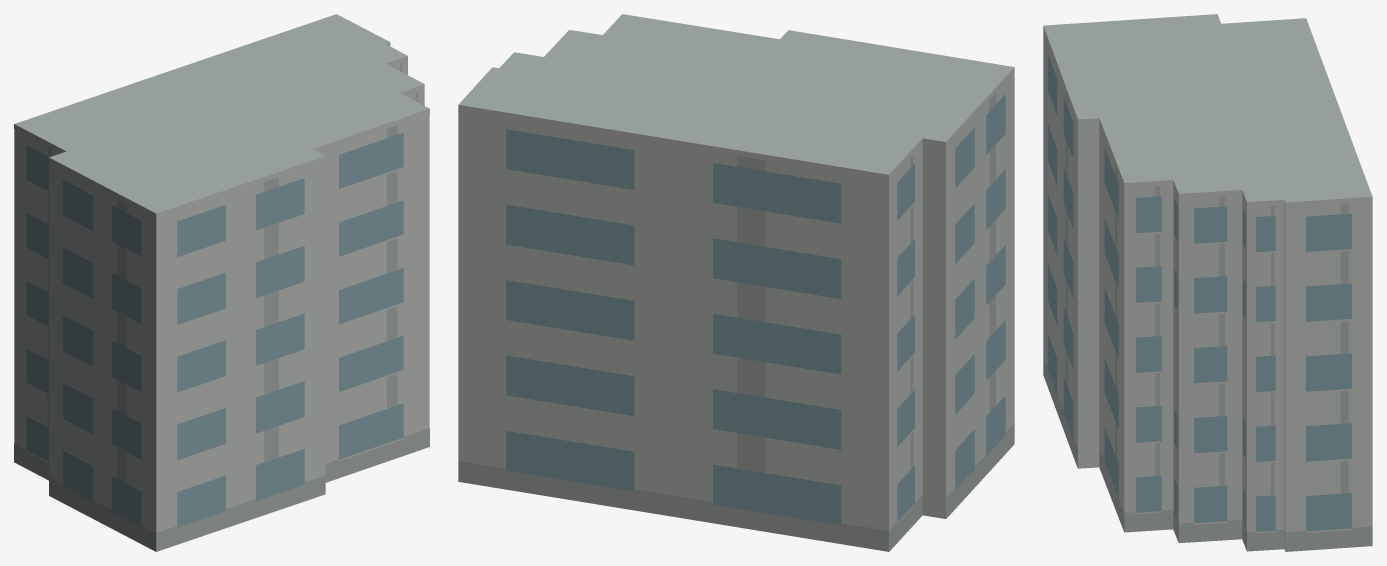
Rendered from survey-upis-32701538.glb.
The picture shows the model from 3 angles, left to right: view 1: azimuth 30°, elevation 25°; view 2: azimuth 150°, elevation 25°; view 3: azimuth 270°, elevation 25°; orthographic projection. The views are drawn at different scales.
Parts seen in each view (by area): view 1: survey-upis-32701538.tmp; view 2: survey-upis-32701538.tmp; view 3: survey-upis-32701538.tmp.
Part boxes in pixels (bbox=[...]): survey-upis-32701538.tmp: bbox=[14, 14, 429, 551]; survey-upis-32701538.tmp: bbox=[458, 14, 1014, 551]; survey-upis-32701538.tmp: bbox=[1043, 14, 1372, 551].
Size of the model in its own units: 18.88 by 16.3 by 13.93.
